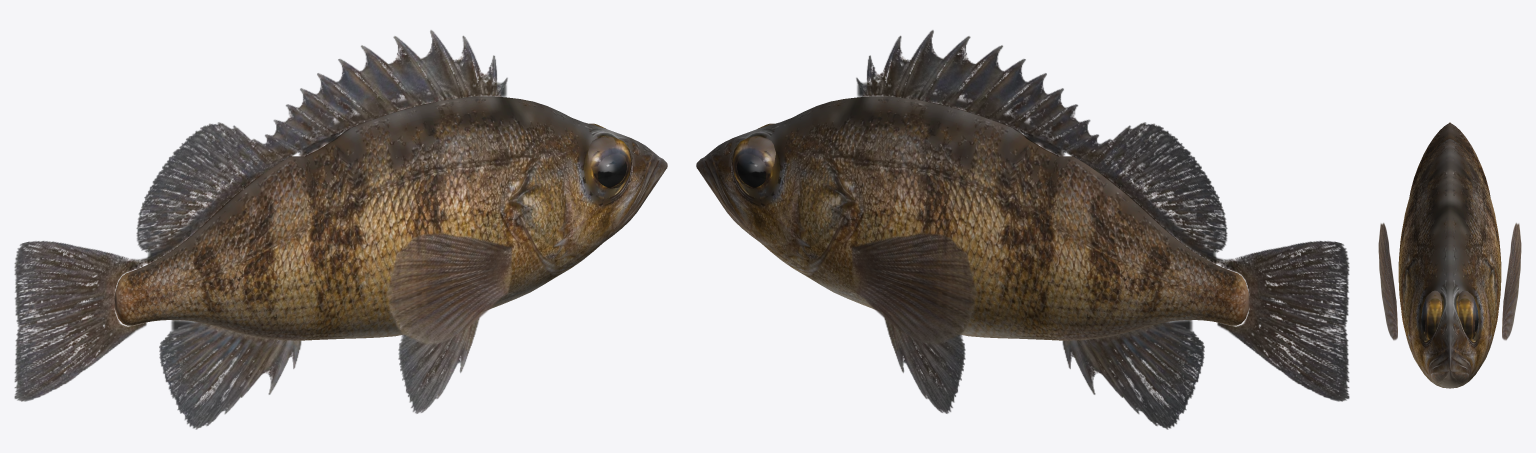
The model's file is mebaru.glb.
3 renders of one model, left to right at view 1: azimuth 30°, elevation 25°; view 2: azimuth 150°, elevation 25°; view 3: azimuth 270°, elevation 25°, orthographic. The views are drawn at different scales.
Visible parts, largest first — view 1: mebaru; view 2: mebaru; view 3: mebaru.
Boxes of the visible parts, x1,y1,x2,y2 form: mebaru: [14, 30, 667, 429]; mebaru: [696, 30, 1349, 429]; mebaru: [1378, 122, 1521, 388].
Size of the model in its own units: 0.2203 by 0.1238 by 0.0492.
1 material, 1 textured.
